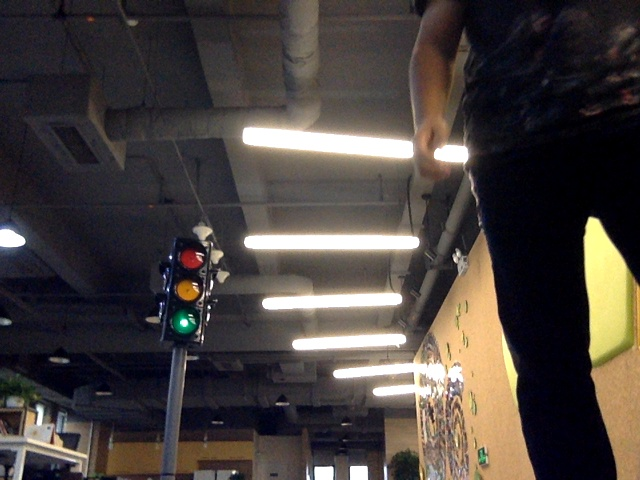green: (167, 245, 205, 338)
